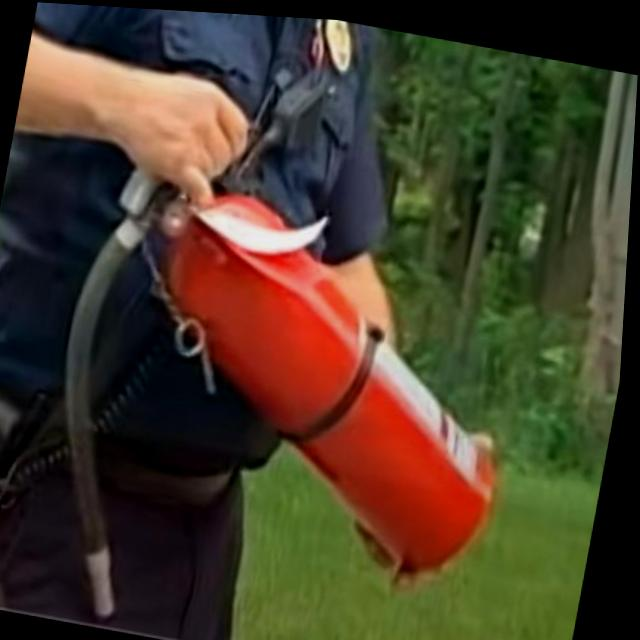FireExtinguisher: (15, 77, 566, 640)
